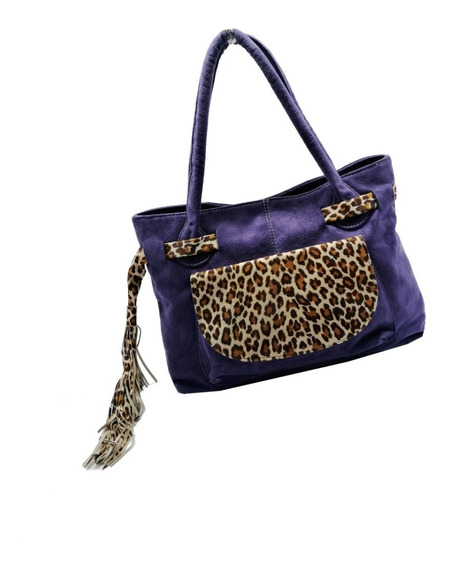cartera: (132, 27, 427, 395)
